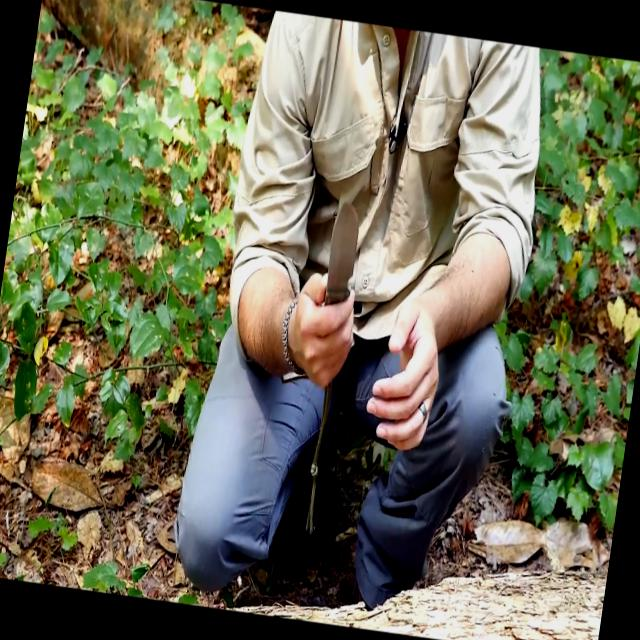knife: (298, 189, 374, 361)
